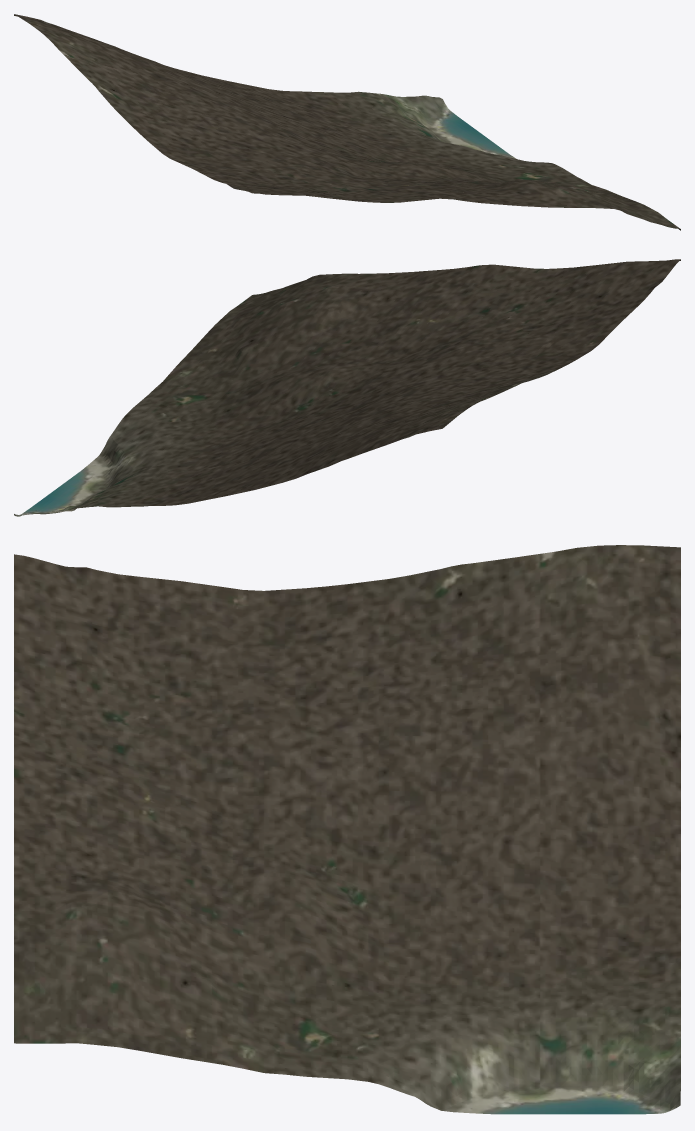
The picture shows the model from 3 angles, top to bottom: view 1: azimuth 30°, elevation 25°; view 2: azimuth 150°, elevation 25°; view 3: azimuth 270°, elevation 25°; orthographic projection. The views are drawn at different scales.
Bounding box in the file's own units: 250 × 111 × 241.
1 material, 1 textured.
